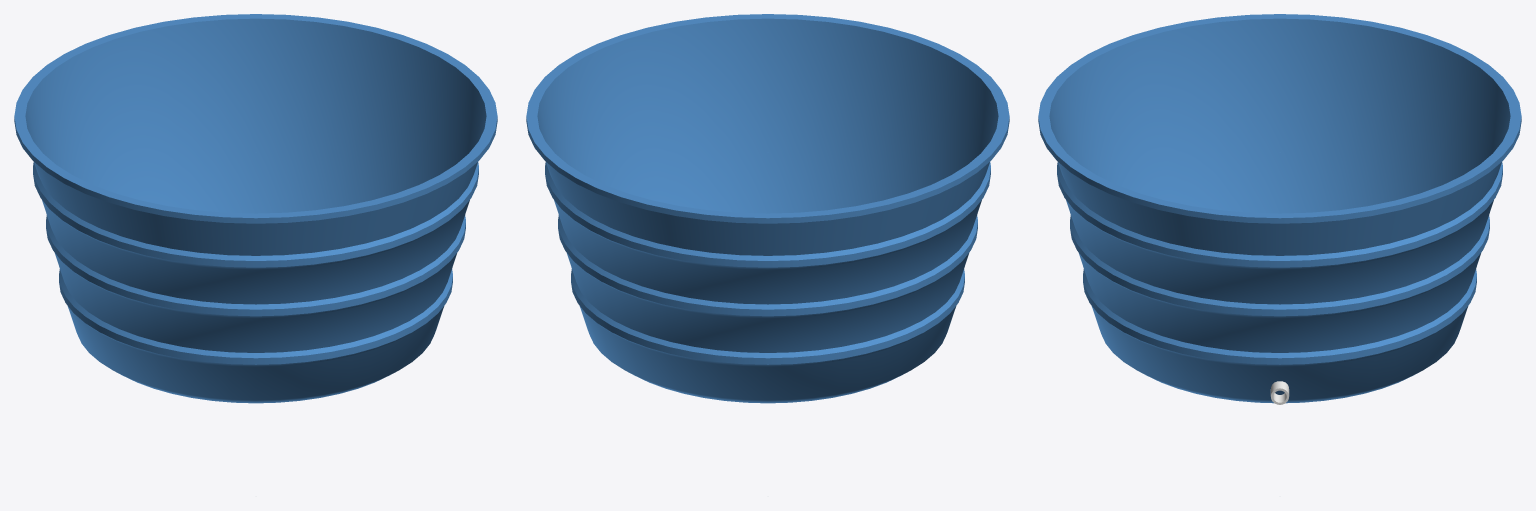
File: HID-RES-002_anim.glb
The picture shows the model from 3 angles, left to right: view 1: azimuth 30°, elevation 25°; view 2: azimuth 150°, elevation 25°; view 3: azimuth 270°, elevation 25°; orthographic projection.
Parts seen in each view (by area): view 1: HID-RES-002_anim0; view 2: HID-RES-002_anim0; view 3: HID-RES-002_anim0.
Part boxes in pixels (bbox=[...]): HID-RES-002_anim0: bbox=[14, 14, 497, 403]; HID-RES-002_anim0: bbox=[526, 14, 1009, 403]; HID-RES-002_anim0: bbox=[1038, 14, 1521, 404].
Bounding box in the file's own units: 1.58 × 1.37 × 1.58.
